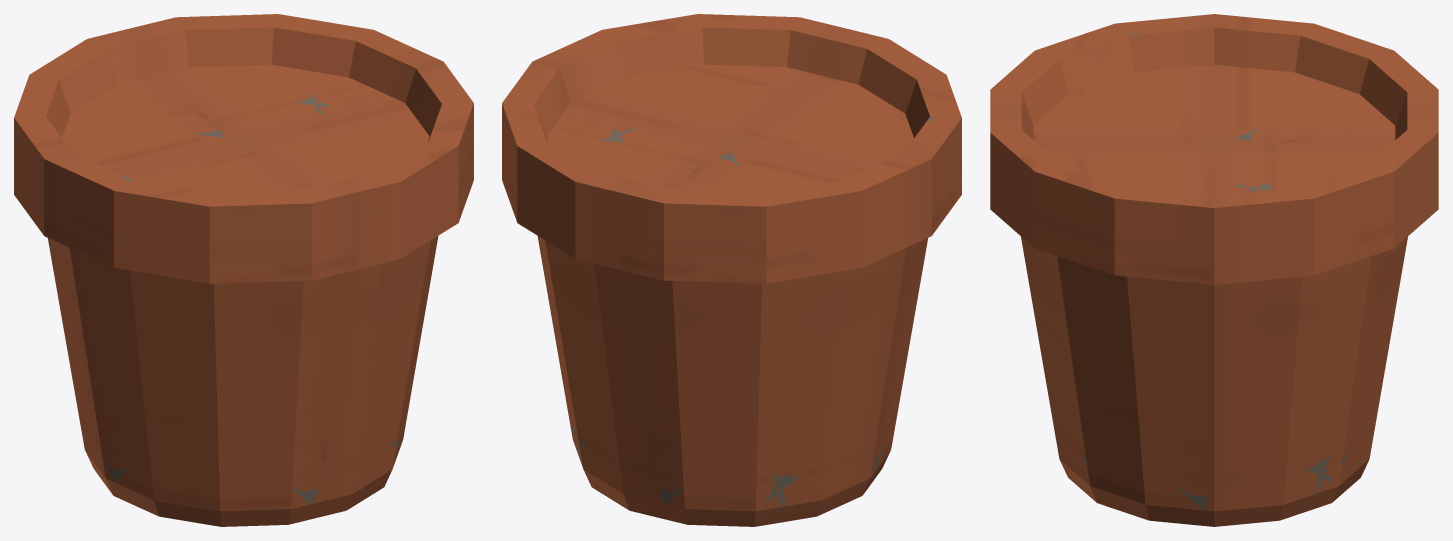
The model's file is clay_pot.glb.
3 views of the same model, side by side, from view 1: azimuth 30°, elevation 25°; view 2: azimuth 150°, elevation 25°; view 3: azimuth 270°, elevation 25° (orthographic).
Visible parts, largest first — view 1: p; view 2: p; view 3: p.
Boxes of the visible parts, bbox=[...] form: p: bbox=[14, 14, 473, 526]; p: bbox=[502, 14, 961, 526]; p: bbox=[990, 14, 1438, 526].
Bounding box in the file's own units: 0.26 × 0.22 × 0.2535.
1 material, 1 textured.
